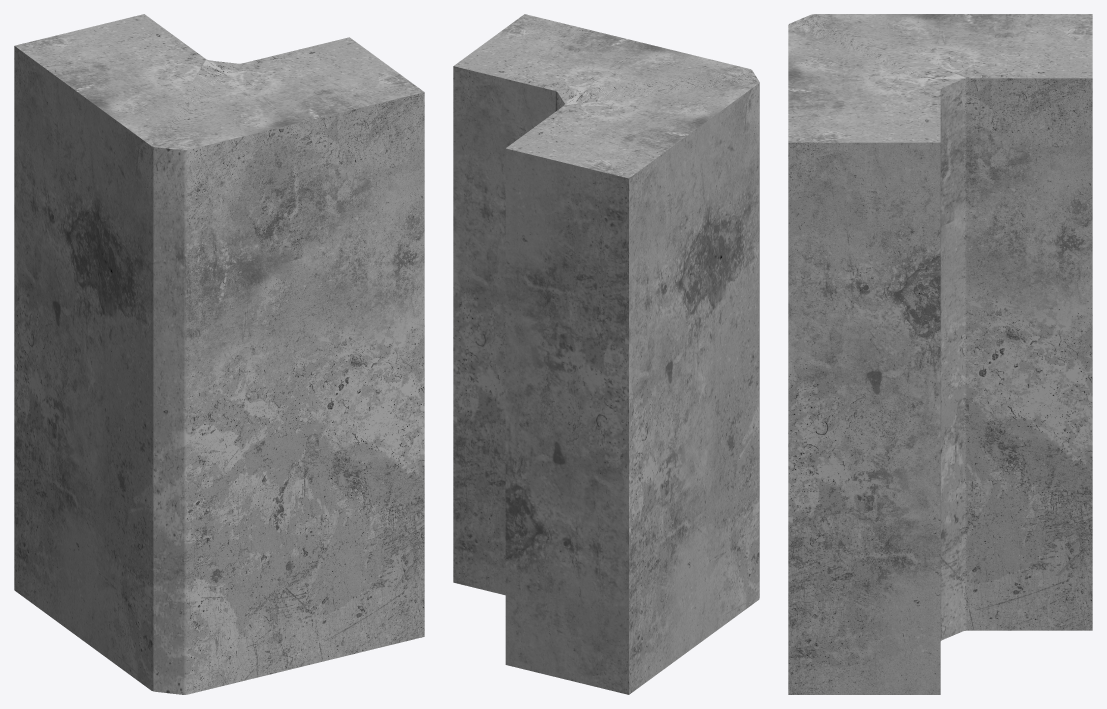
The model's file is SM_Wallkit_Corner_01b.fbx.
The picture shows the model from 3 angles, left to right: view 1: azimuth 30°, elevation 25°; view 2: azimuth 150°, elevation 25°; view 3: azimuth 270°, elevation 25°; orthographic projection. The views are drawn at different scales.
Parts seen in each view (by area): view 1: SM_Wallkit_Corner_01b_LOD0; view 2: SM_Wallkit_Corner_01b_LOD0; view 3: SM_Wallkit_Corner_01b_LOD0.
Boxes of the visible parts, <box> form: SM_Wallkit_Corner_01b_LOD0: <box>14,14,424,694</box>; SM_Wallkit_Corner_01b_LOD0: <box>453,14,759,694</box>; SM_Wallkit_Corner_01b_LOD0: <box>788,14,1092,694</box>.
Size of the model in its own units: 200 by 200 by 400.
